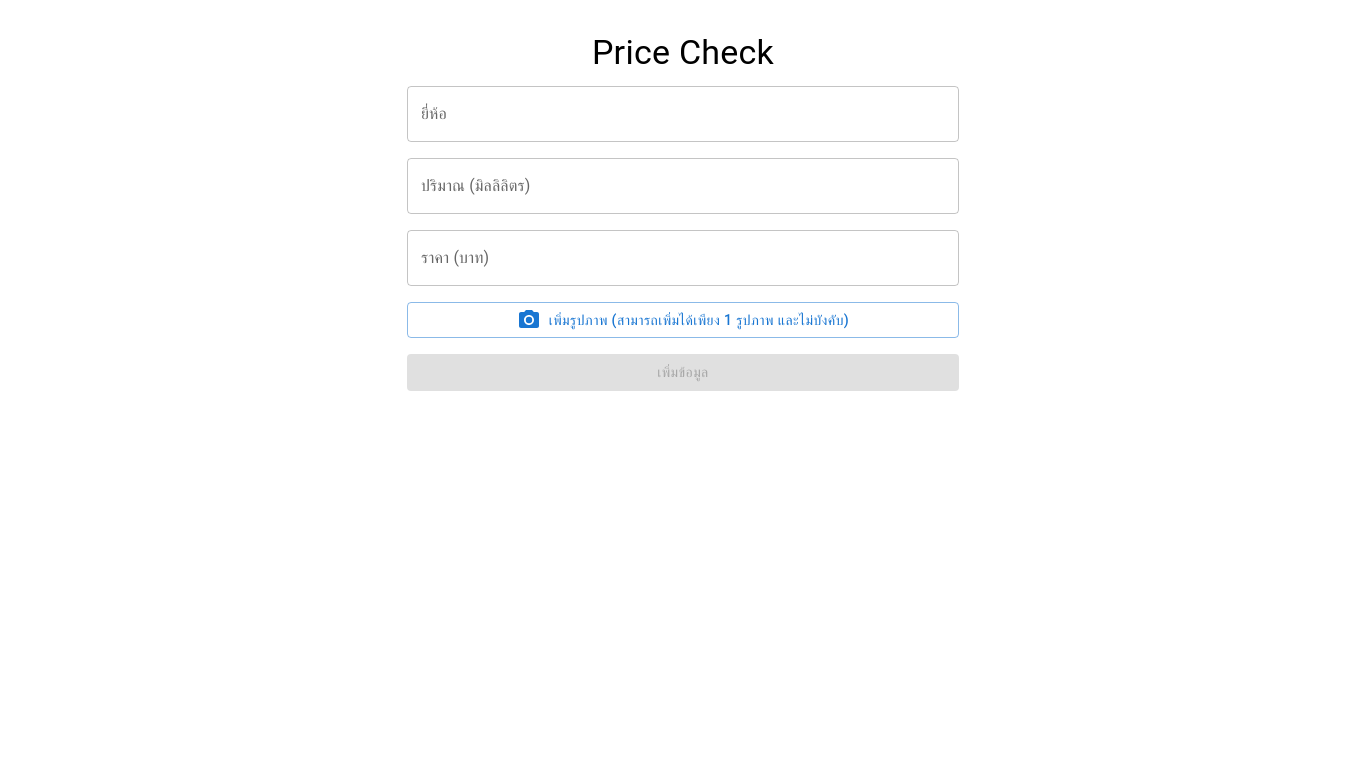
Scenario: Item Price Check App › removes a item
# Add a item
Step 1. Type "Brand A" into the field labelled "ยี่ห้อ" → (683, 114), box [407,86,959,142]
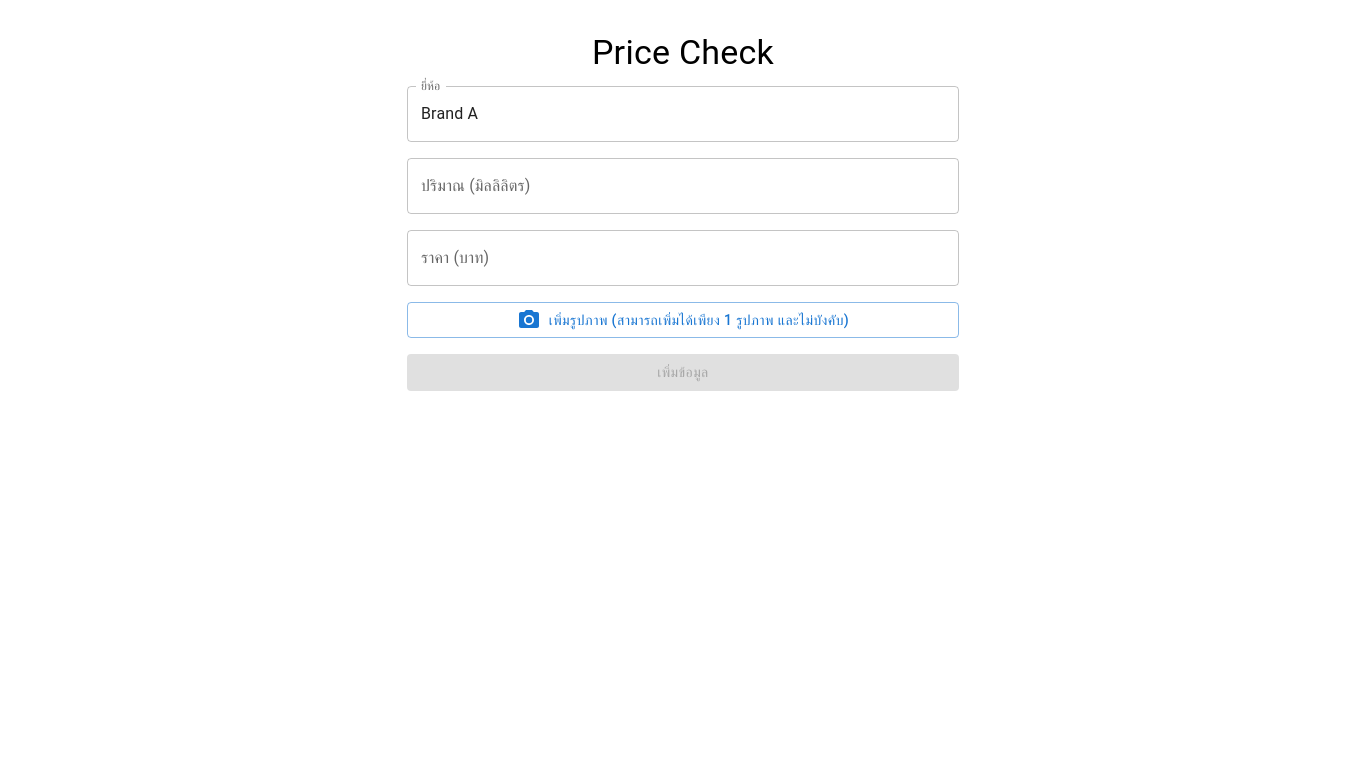
Step 2. Type "1000" into the field labelled "ปริมาณ (มิลลิลิตร)" → (683, 186), box [407,158,959,214]
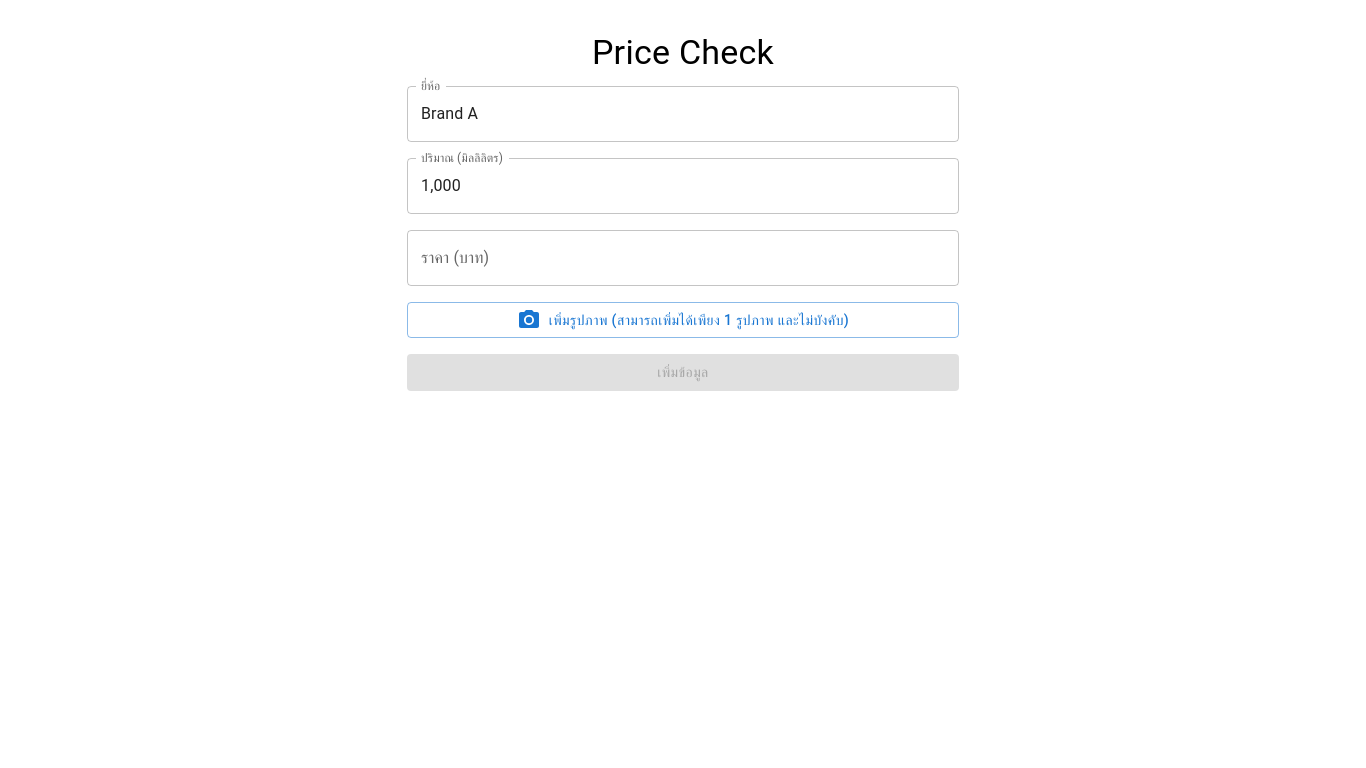
Step 3. Type "100" into the field labelled "ราคา (บาท)" → (683, 258), box [407,230,959,286]
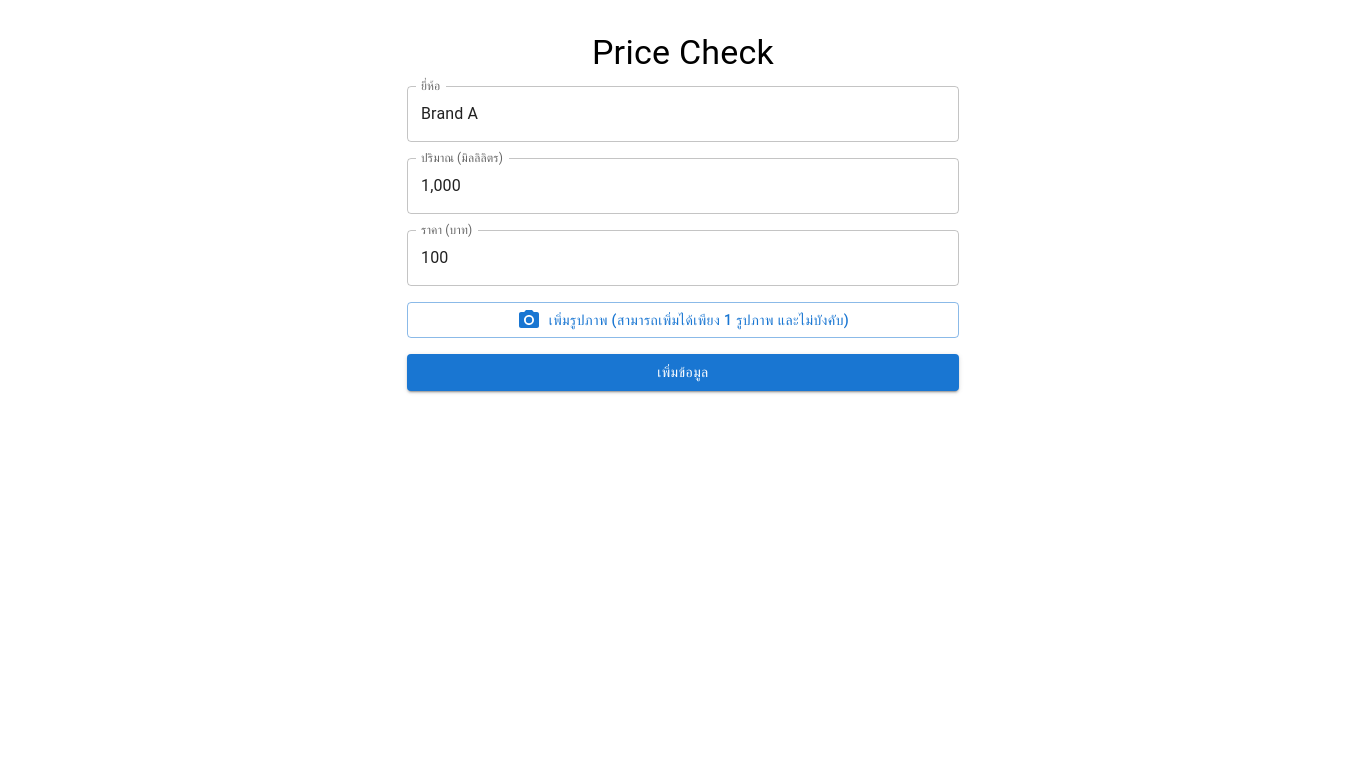
Step 4. Click the button "เพิ่มข้อมูล" → (683, 373), box [407,354,959,391]
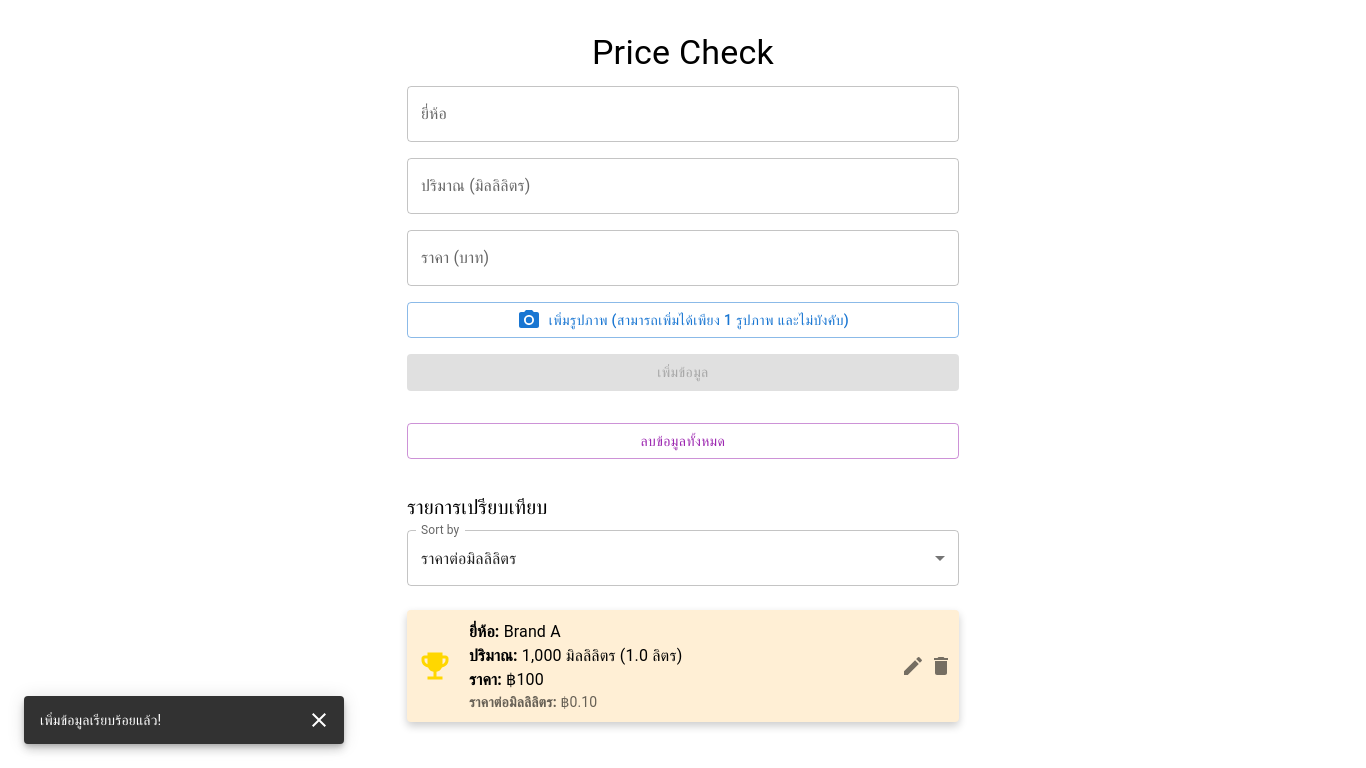
# Click the delete button
Step 5. Click the button named "delete" → (941, 666), box [921,646,961,686]
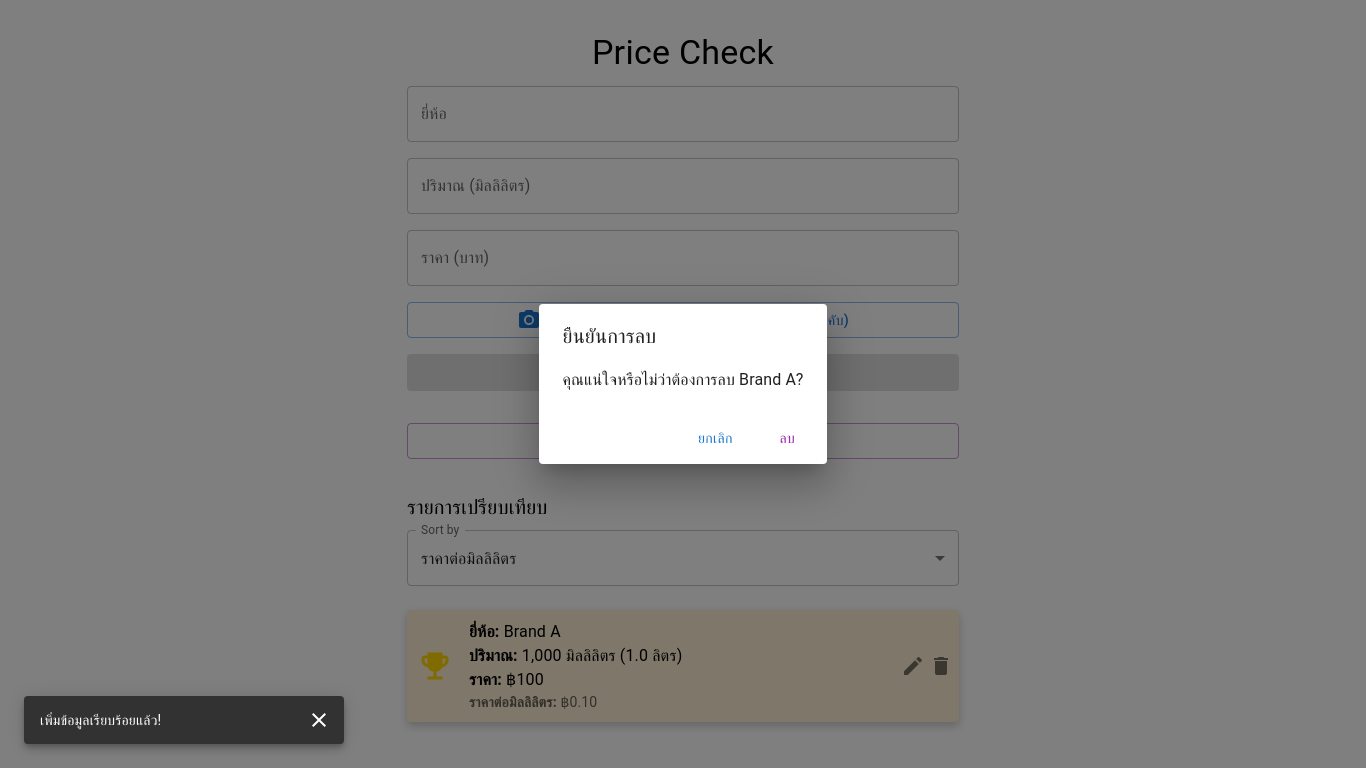
# Confirm delete
Step 6. Click the button "ลบ" → (787, 438), box [755,420,819,456]
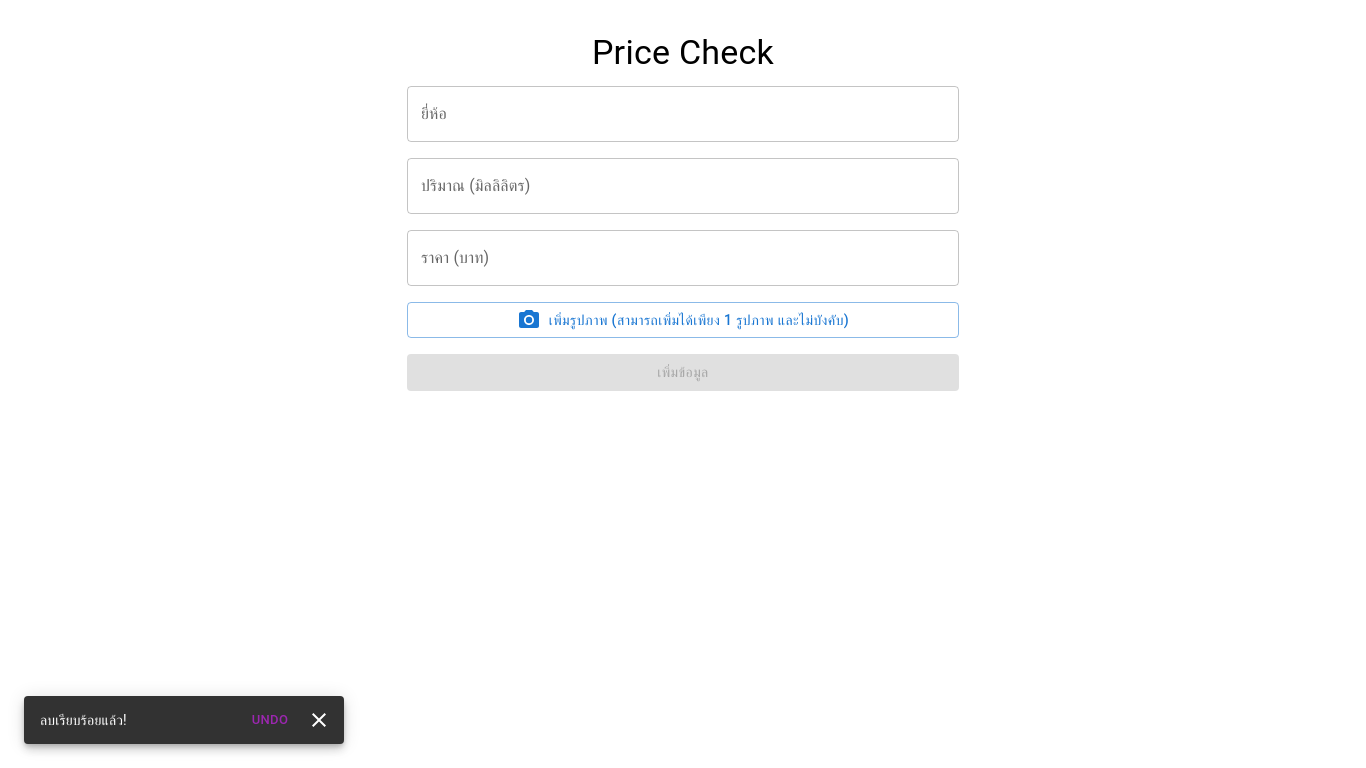
Check: the text "Brand A" is gone
